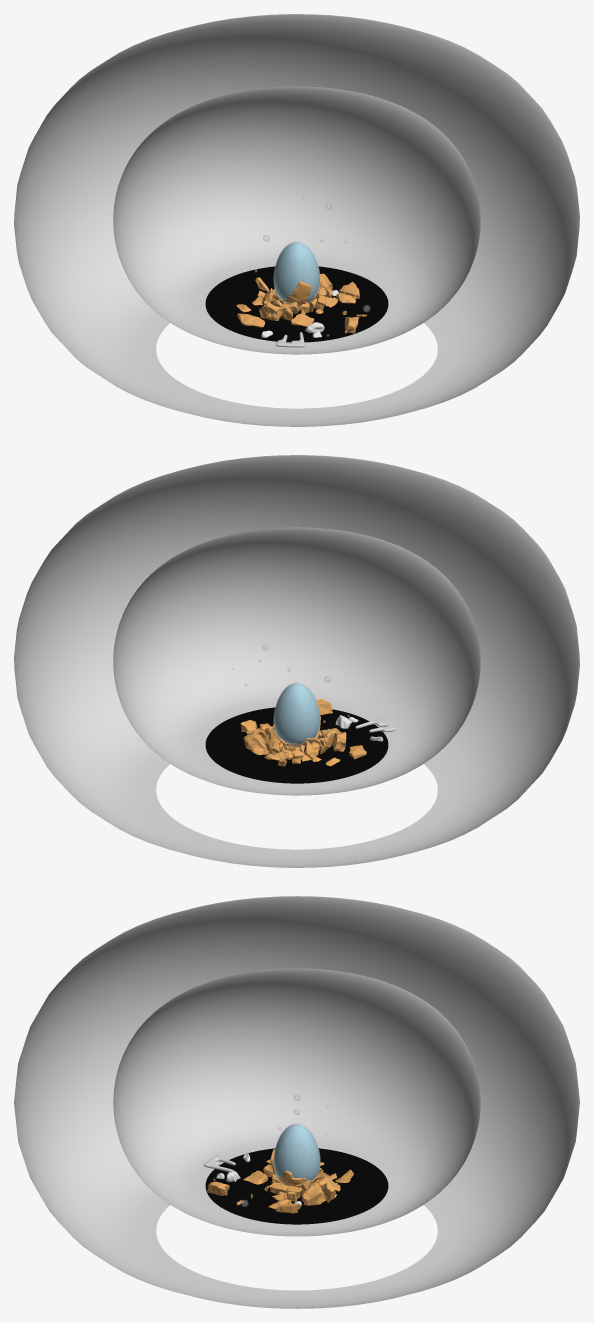
File: PXLs_egg244.glb
The picture shows the model from 3 angles, top to bottom: view 1: azimuth 30°, elevation 25°; view 2: azimuth 150°, elevation 25°; view 3: azimuth 270°, elevation 25°; orthographic projection.
Visible parts, largest first — view 1: outerCylinder, innerCylinder, floorBase, rockDebris, smoke4, smoke3, crackedEgg; view 2: outerCylinder, innerCylinder, floorBase, rockDebris, smoke4, smoke3, crackedEgg; view 3: outerCylinder, innerCylinder, floorBase, rockDebris, smoke4, smoke3, crackedEgg.
Part boxes in pixels (x1,y1,x2,y2): outerCylinder: (14,14,579,426); innerCylinder: (113,86,480,354); floorBase: (205,266,388,342); rockDebris: (237,273,359,333); smoke4: (273,241,320,305); smoke3: (274,241,319,302); crackedEgg: (274,242,319,302); outerCylinder: (14,455,579,867); innerCylinder: (113,527,480,795); floorBase: (205,707,388,783); rockDebris: (240,699,366,766); smoke4: (273,682,320,747); smoke3: (274,682,319,746); crackedEgg: (274,683,319,744); outerCylinder: (14,896,579,1308); innerCylinder: (113,968,480,1236); floorBase: (205,1148,388,1224); rockDebris: (207,1156,353,1213); smoke4: (273,1123,320,1185); smoke3: (274,1123,320,1179); crackedEgg: (274,1124,319,1180).
Size of the model in its own units: 22.69 by 11.36 by 22.69.
8 materials, 2 textured.
